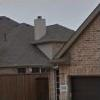Chimney: (27, 10, 49, 43)
